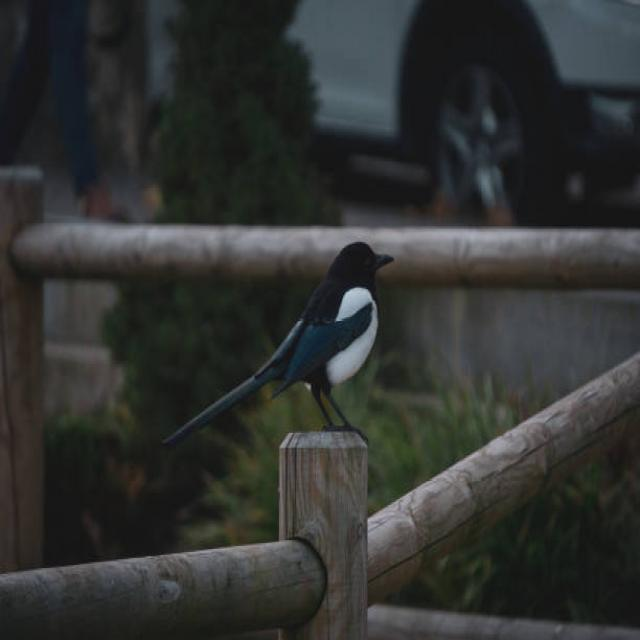Magpie: (152, 240, 397, 442)
